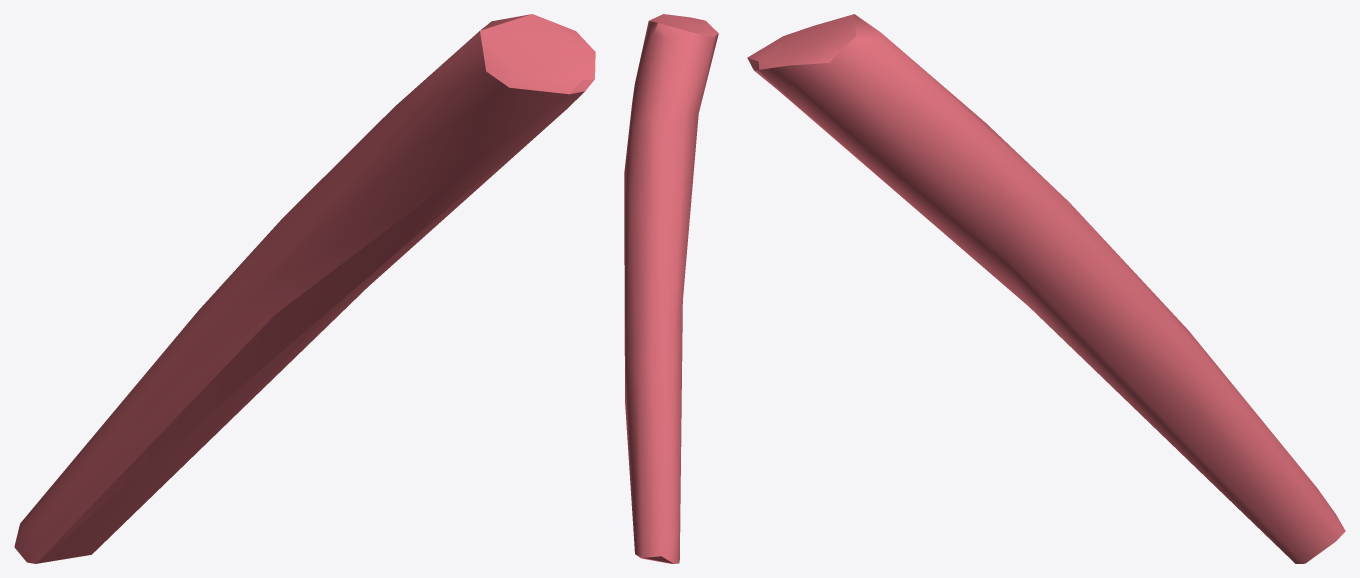
Rendered from fma9451_fj2948.glb.
3 renders of one model, left to right at view 1: azimuth 30°, elevation 25°; view 2: azimuth 150°, elevation 25°; view 3: azimuth 270°, elevation 25°, orthographic. The views are drawn at different scales.
Parts seen in each view (by area): view 1: FMA9451_FJ2948; view 2: FMA9451_FJ2948; view 3: FMA9451_FJ2948.
Part boxes in pixels (x1,y1,x2,y2): FMA9451_FJ2948: (14, 14, 595, 563); FMA9451_FJ2948: (624, 14, 718, 563); FMA9451_FJ2948: (747, 14, 1345, 563).
Size of the model in its own units: 0.00829 by 0.0173 by 0.015.
